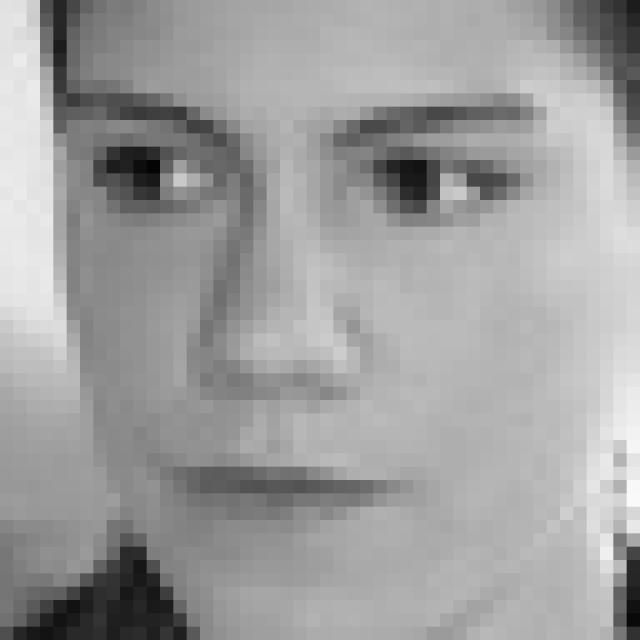neutral: (74, 79, 541, 579)
